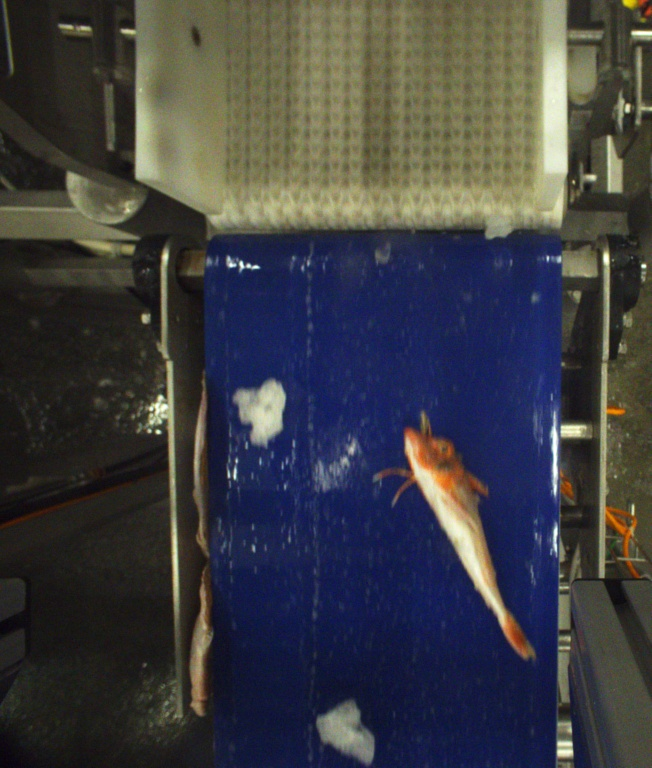GUU: (376, 429, 541, 662)
